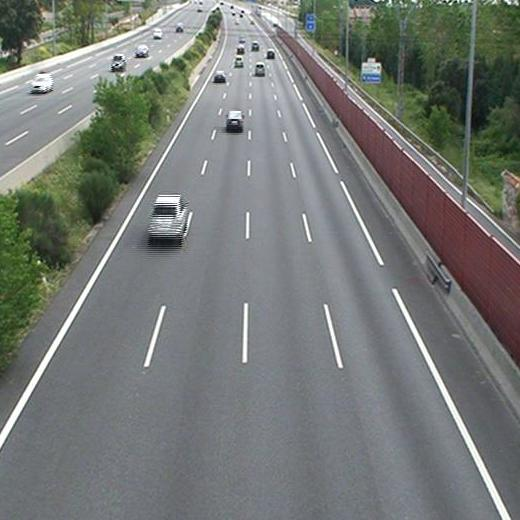car: (148, 195, 186, 235), (226, 111, 242, 128), (213, 71, 226, 81), (255, 63, 266, 74), (234, 56, 244, 66), (266, 50, 275, 58), (236, 46, 245, 54), (251, 42, 261, 49)
